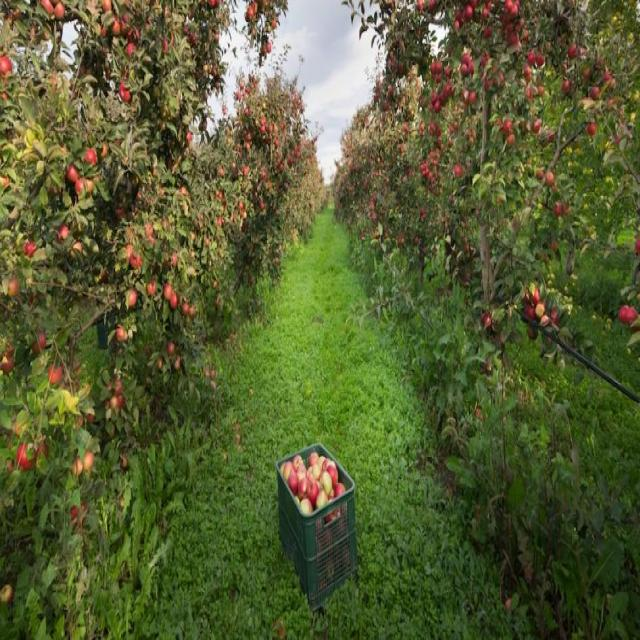row: (78, 204, 566, 640)
